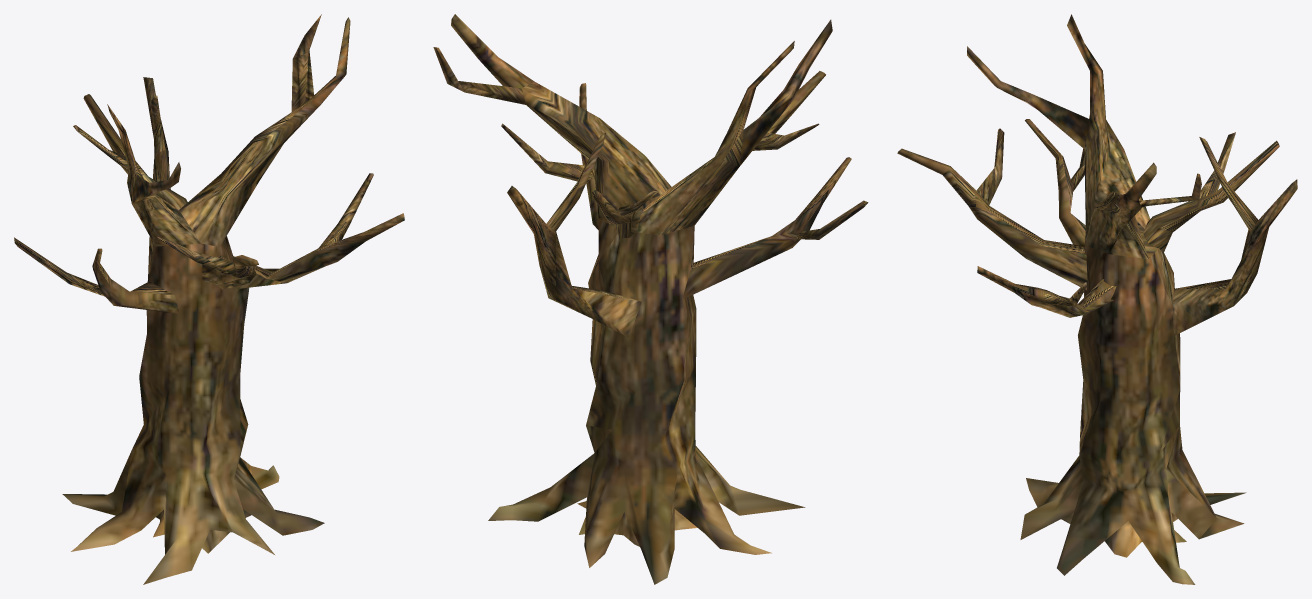
3 views of the same model, side by side, from view 1: azimuth 30°, elevation 25°; view 2: azimuth 150°, elevation 25°; view 3: azimuth 270°, elevation 25° (orthographic). The views are drawn at different scales.
Visible parts, largest first — view 1: Object25; view 2: Object25; view 3: Object25.
Part boxes in pixels (x1,y1,x2,y2): Object25: [14, 14, 404, 584]; Object25: [433, 14, 868, 584]; Object25: [897, 14, 1297, 584].
Size of the model in its own units: 607 by 743 by 585.
